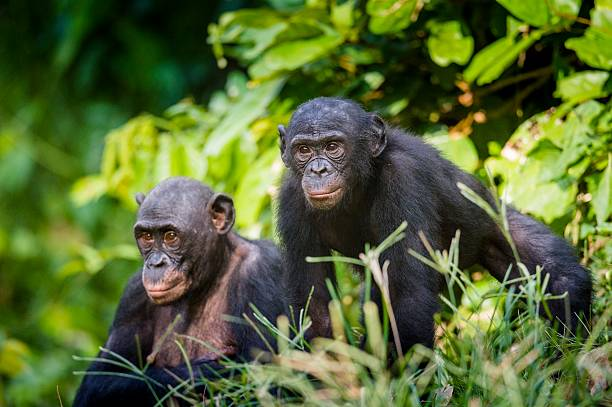chimpanzee: (272, 98, 427, 239), (109, 164, 242, 322)
